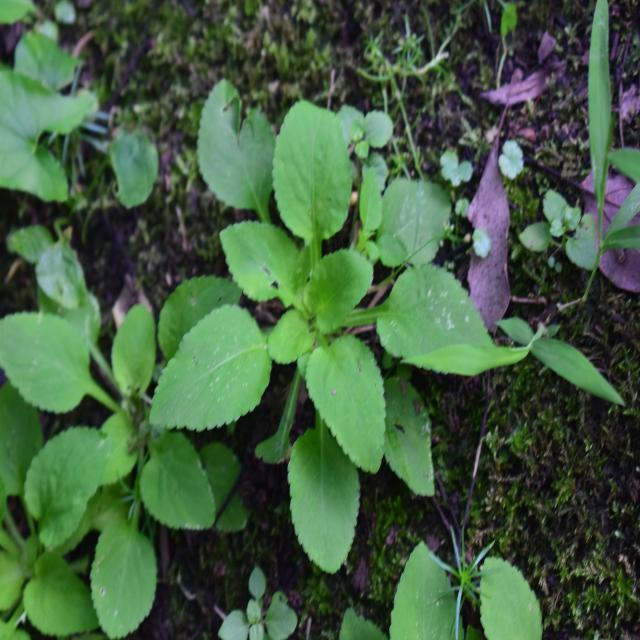Viola: (151, 79, 453, 522)
